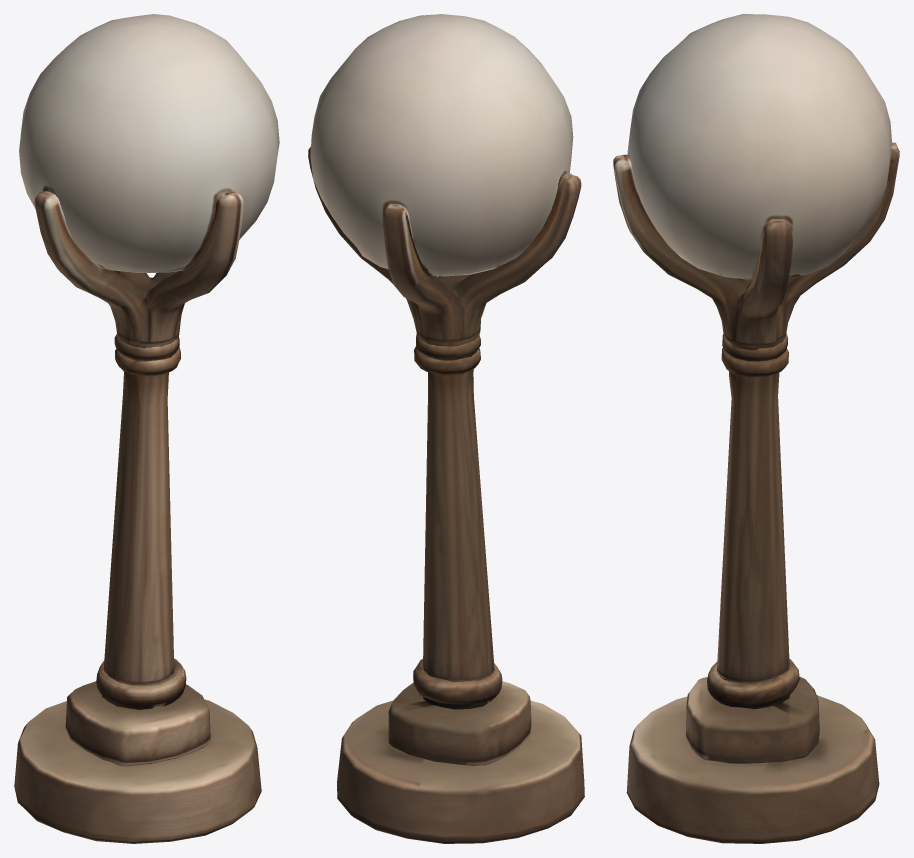
Rendered from act1_kit_v1_milk_night_light.glb.
The picture shows the model from 3 angles, left to right: view 1: azimuth 30°, elevation 25°; view 2: azimuth 150°, elevation 25°; view 3: azimuth 270°, elevation 25°; orthographic projection.
Parts seen in each view (by area): view 1: act1_kit_v1_milk_night_light; view 2: act1_kit_v1_milk_night_light; view 3: act1_kit_v1_milk_night_light.
Boxes of the visible parts, <box> form: act1_kit_v1_milk_night_light: <box>14,14,279,843</box>; act1_kit_v1_milk_night_light: <box>308,14,584,843</box>; act1_kit_v1_milk_night_light: <box>613,14,899,843</box>.
Size of the model in its own units: 0.3365 by 1 by 0.3353.
Materials: 1 (1 with a texture image).
